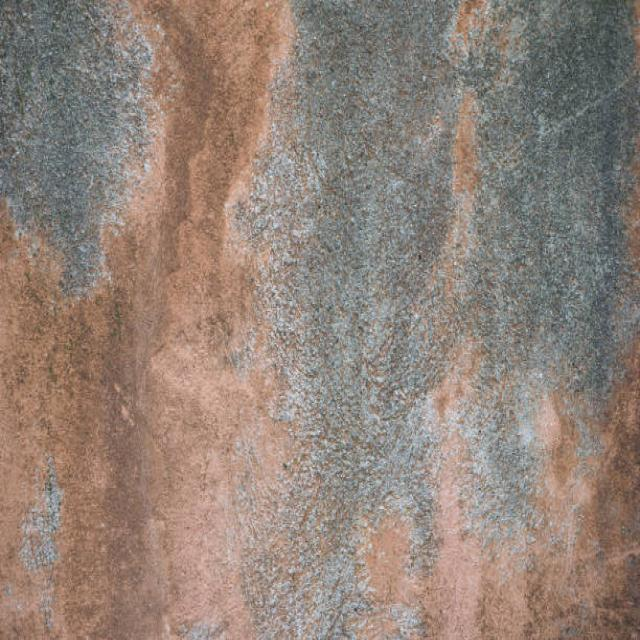stain_mould: (242, 2, 639, 639), (0, 0, 162, 296)
